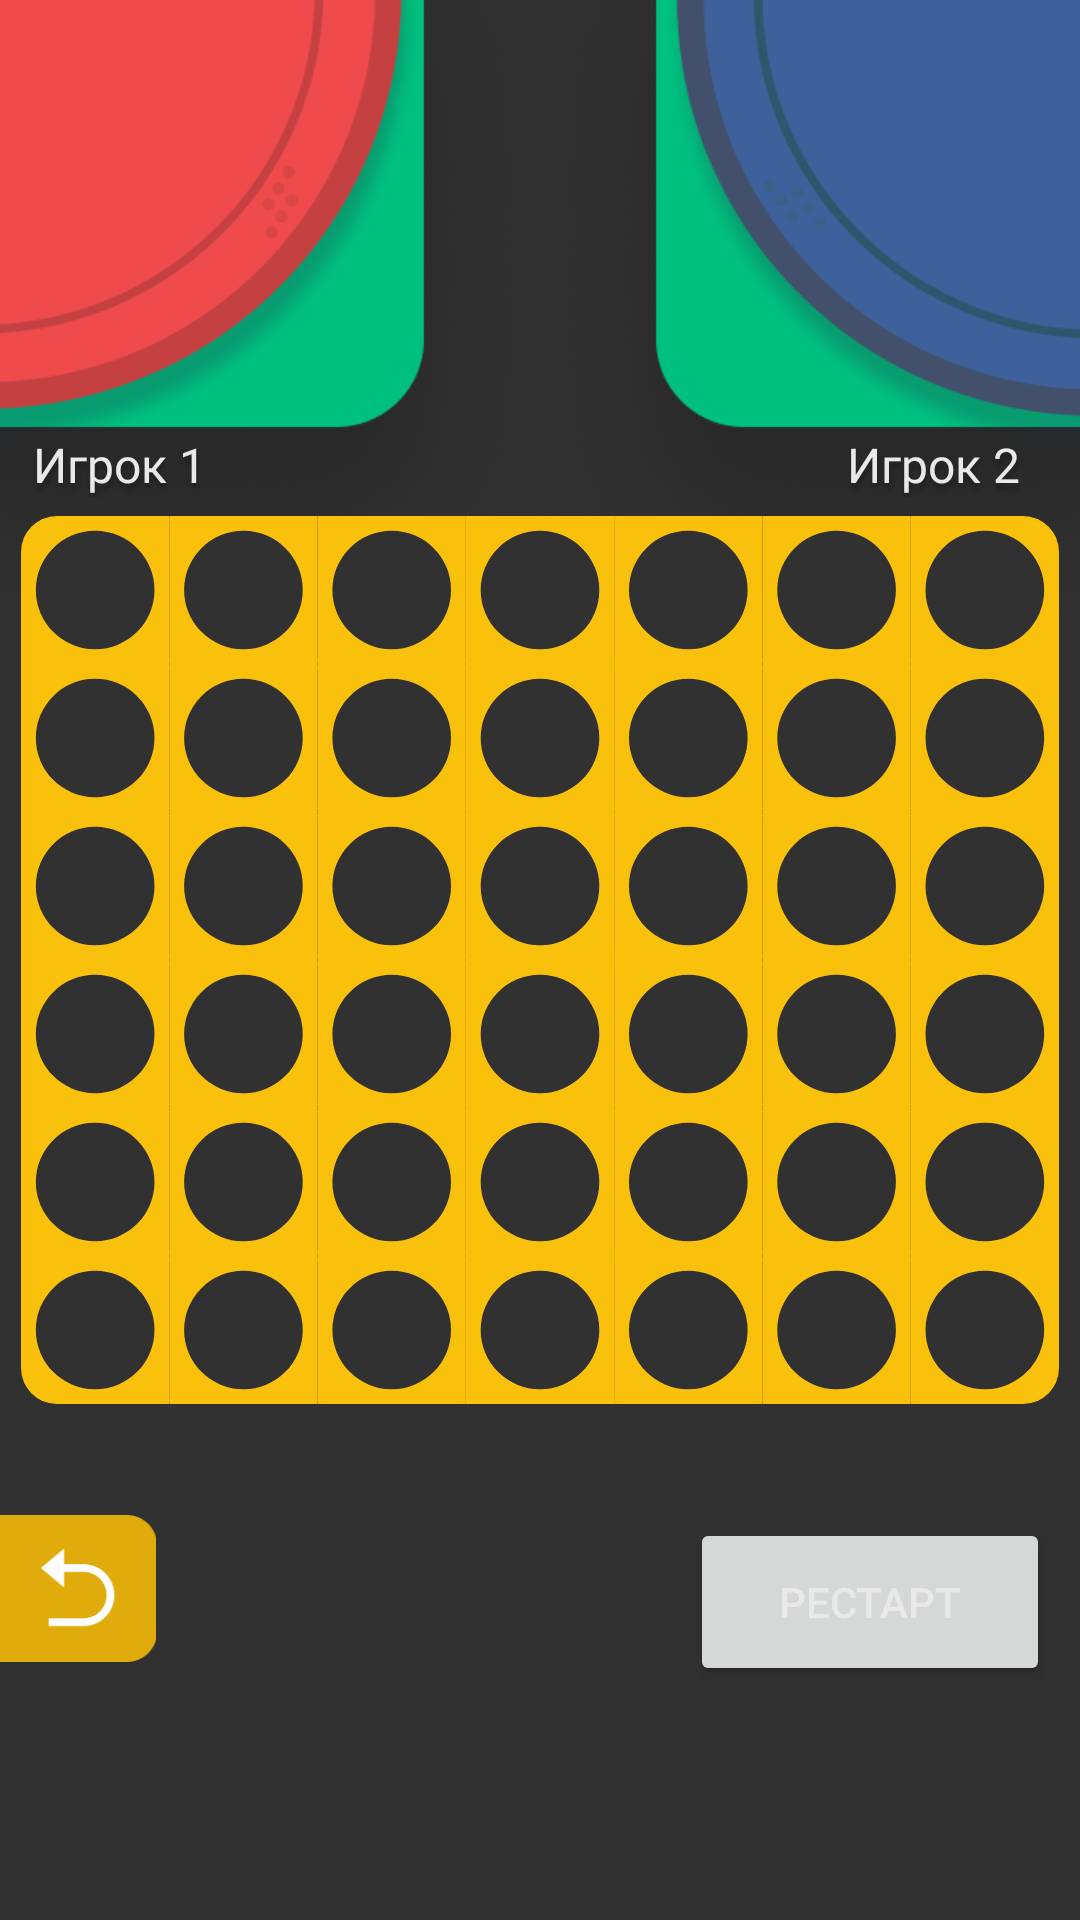

Where icons sit on this 1080 x 1920 app screen, as (x1, y1, x2, y2):
back: (0, 1515, 156, 1662)
